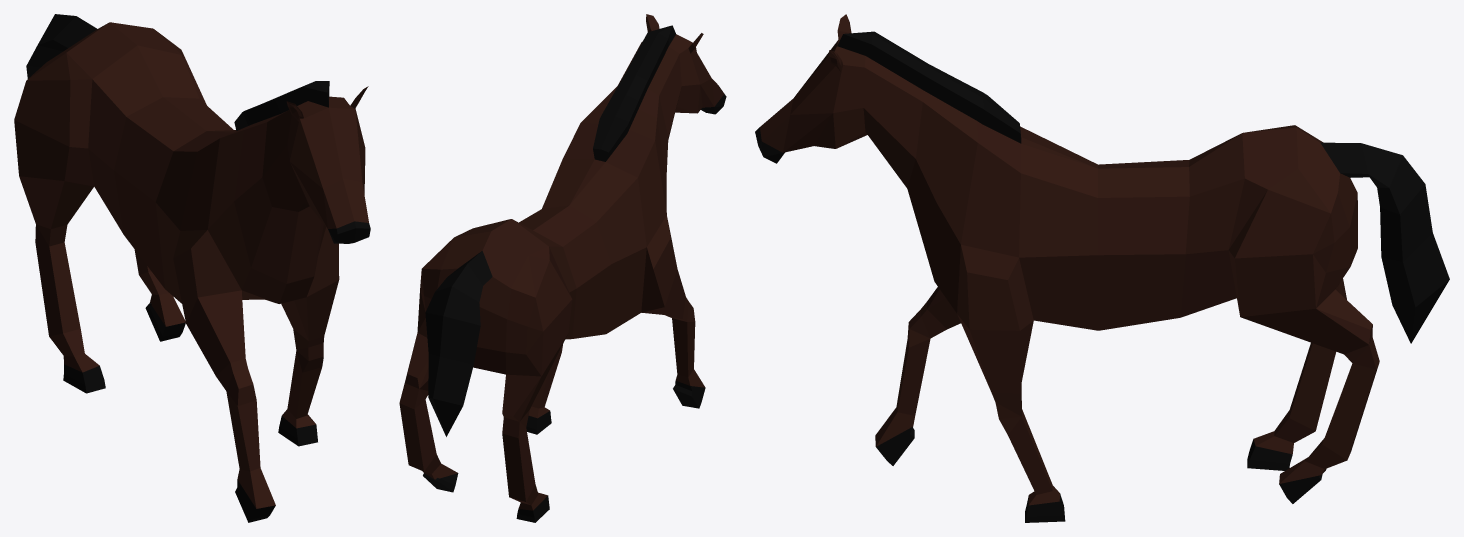
File: Horse_000013.obj
3 renders of one model, left to right at view 1: azimuth 30°, elevation 25°; view 2: azimuth 150°, elevation 25°; view 3: azimuth 270°, elevation 25°, orthographic. The views are drawn at different scales.
Parts seen in each view (by area): view 1: Horse_Cylinder; view 2: Horse_Cylinder; view 3: Horse_Cylinder.
Boxes of the visible parts, x1,y1,x2,y2 form: Horse_Cylinder: (14, 14, 370, 522); Horse_Cylinder: (399, 14, 726, 522); Horse_Cylinder: (755, 14, 1449, 522).
Size of the model in its own units: 2.58 by 6.74 by 9.39.
